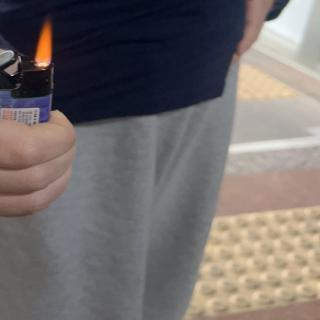fire: (30, 19, 55, 62)
